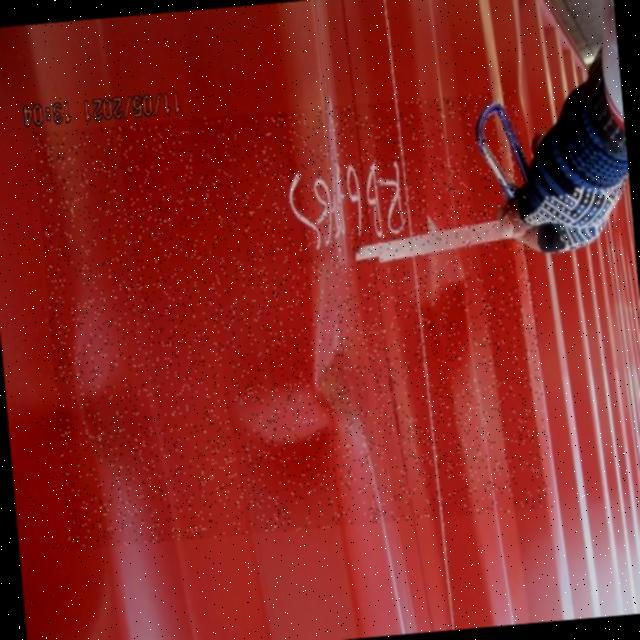dent: (34, 91, 555, 551)
